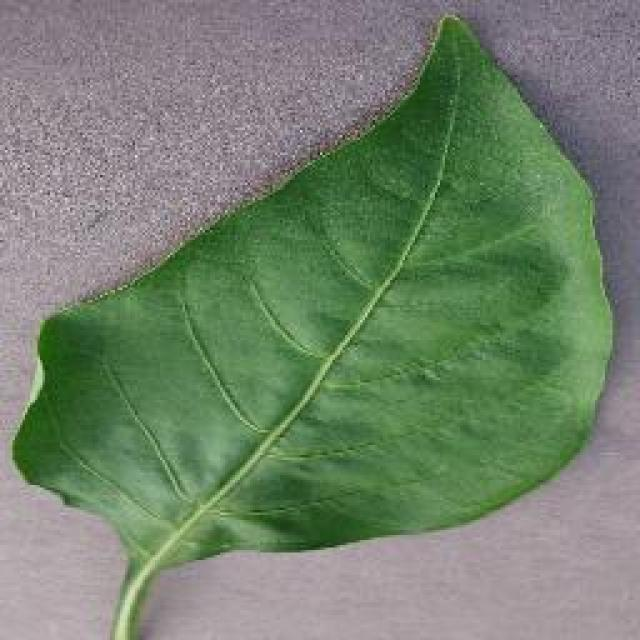Chilli_Healthy: (10, 10, 615, 638)
